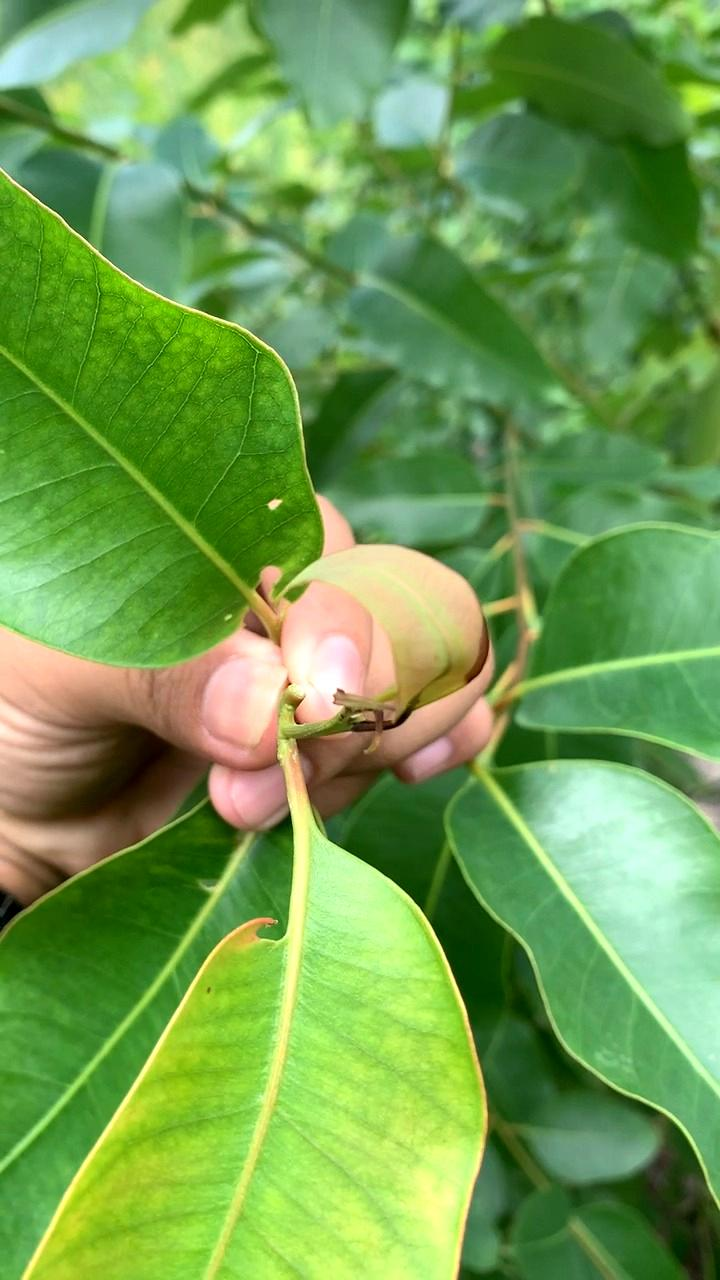Helopeltis-Withered Sprout: (258, 549, 487, 733)
